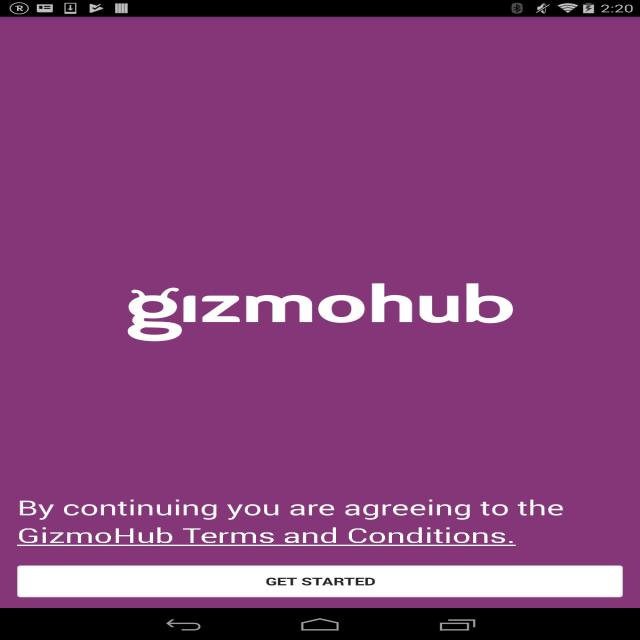button: (19, 564, 624, 600)
heading: (122, 285, 522, 345)
link: (21, 522, 527, 552)
text: (19, 502, 568, 552)
